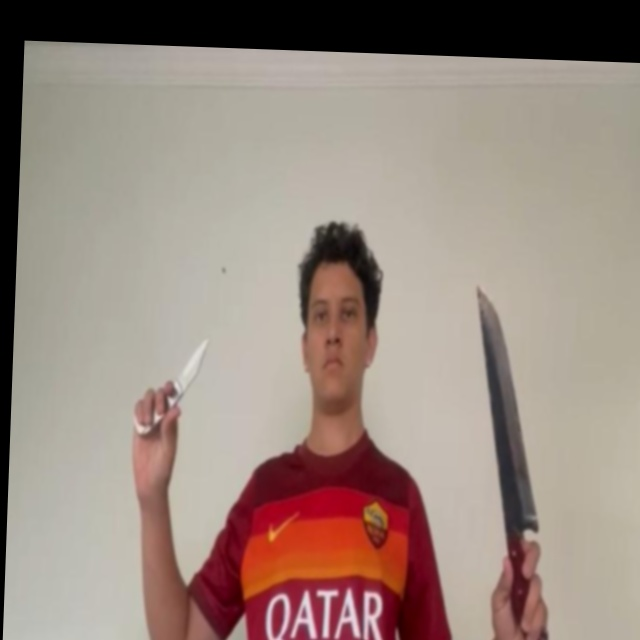Sharp-Object: (469, 283, 547, 533), (177, 336, 210, 397)
